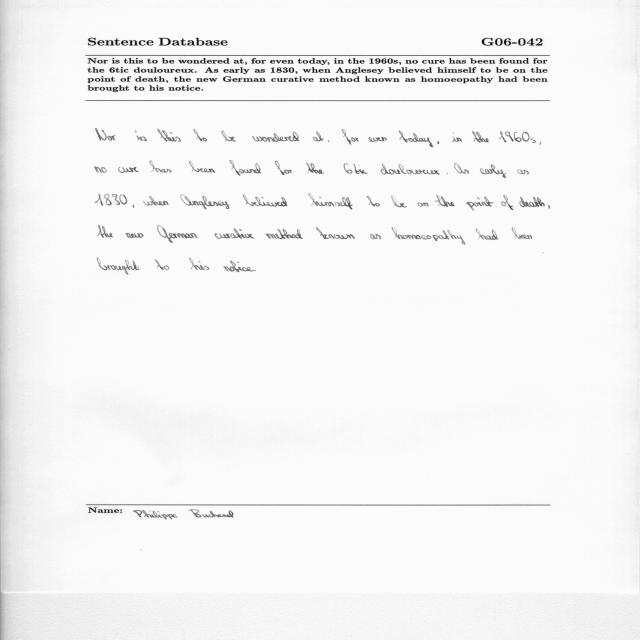word: (392, 227, 466, 245), (157, 225, 198, 243), (181, 194, 230, 209), (308, 194, 353, 210), (97, 258, 139, 275), (381, 164, 440, 175), (399, 131, 433, 148), (243, 195, 288, 207), (230, 161, 262, 176), (252, 132, 299, 142), (316, 227, 355, 239), (499, 131, 536, 143), (215, 228, 255, 239), (466, 196, 494, 211), (95, 194, 128, 206), (223, 260, 256, 272), (266, 229, 303, 239), (480, 164, 506, 178), (157, 129, 181, 142), (189, 161, 215, 173), (150, 160, 172, 173), (519, 197, 545, 208), (342, 129, 359, 145), (344, 163, 368, 174), (143, 196, 169, 206), (476, 229, 498, 240), (435, 195, 455, 207), (512, 227, 532, 239), (189, 258, 209, 270), (275, 161, 292, 175), (96, 129, 115, 141), (306, 162, 324, 174), (98, 225, 114, 238), (472, 131, 489, 143), (391, 196, 407, 208), (501, 195, 513, 210), (193, 129, 207, 141), (221, 131, 236, 142), (454, 163, 469, 174), (155, 259, 170, 270), (367, 196, 380, 207), (118, 167, 139, 173), (135, 131, 147, 141), (313, 132, 323, 142), (368, 137, 387, 142), (125, 233, 144, 238), (452, 133, 462, 142), (95, 166, 107, 173), (517, 170, 529, 175), (417, 202, 429, 207), (370, 234, 381, 239), (548, 205, 550, 209), (437, 141, 439, 144), (540, 142, 542, 145), (133, 205, 134, 208), (237, 262, 240, 263), (328, 141, 329, 143), (447, 173, 448, 174)
